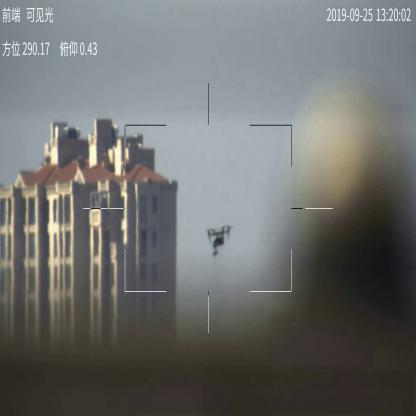uav: (204, 225, 234, 258)
